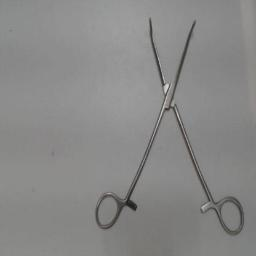Lahey Forceps: (90, 12, 252, 238)
